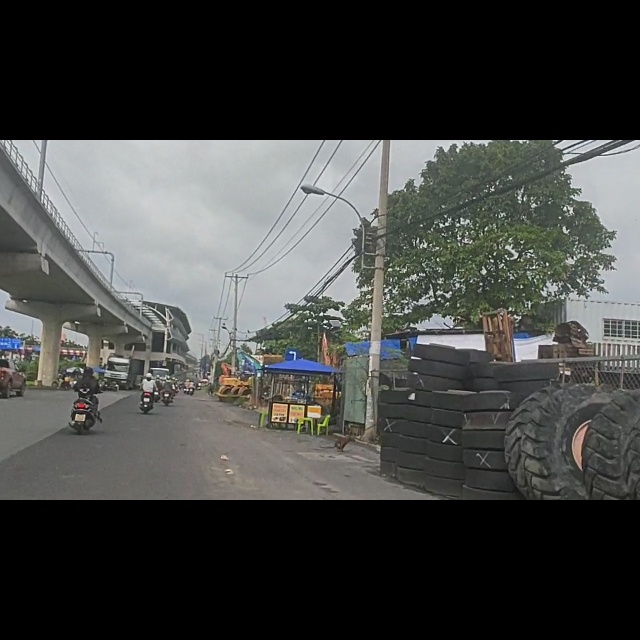bien_hieu_lenh: (285, 371, 300, 393)
